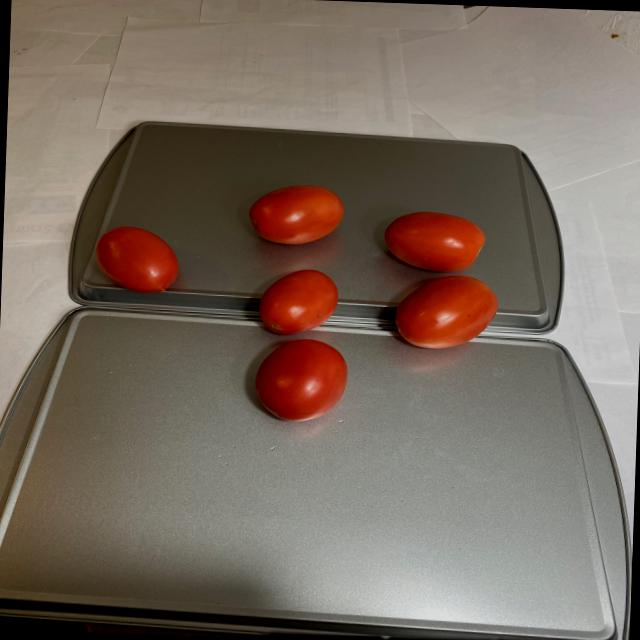tomato: (87, 176, 500, 430)
